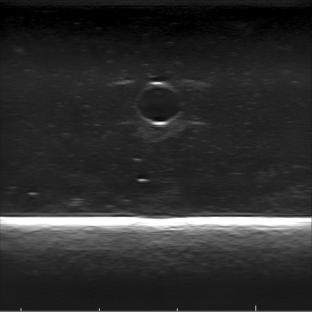vessel: (135, 80, 183, 126)
